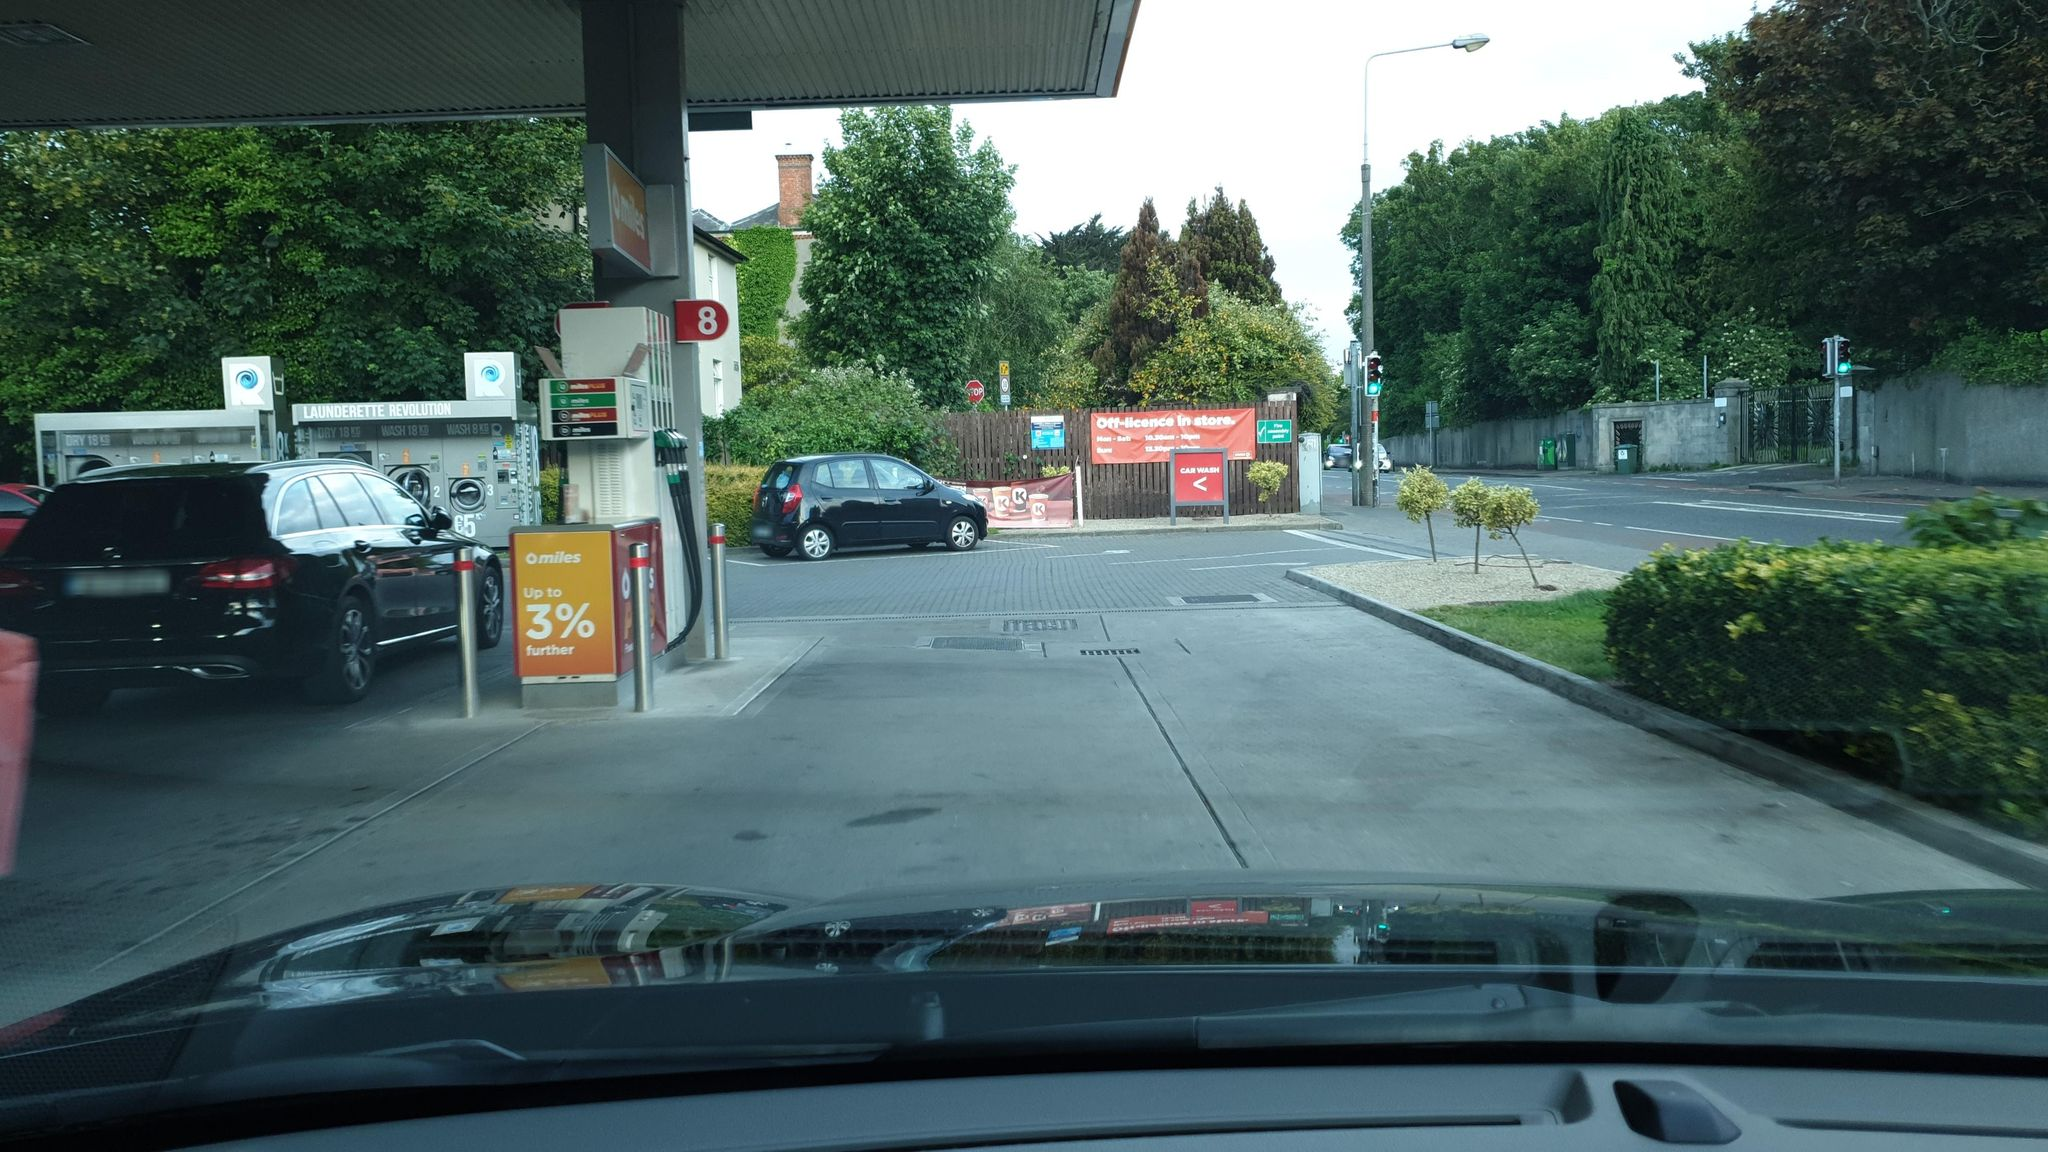vinyl banner: (1087, 397, 1257, 464), (938, 478, 1087, 542)
